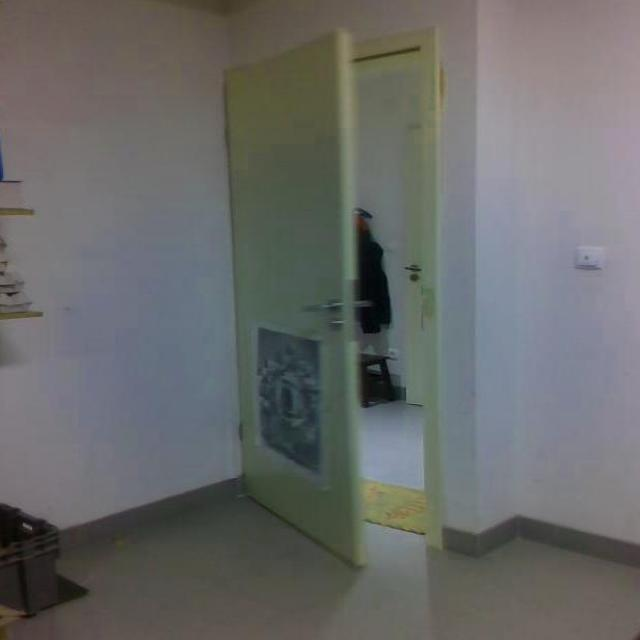door: (213, 24, 371, 576)
